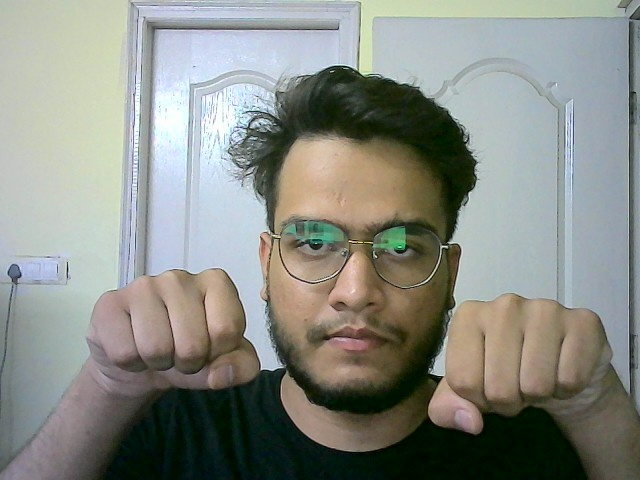Yes: (75, 258, 264, 413), (434, 289, 616, 433)
